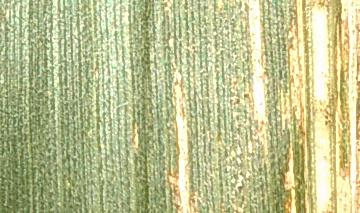tarspot: (322, 110, 333, 128), (239, 90, 252, 101)
